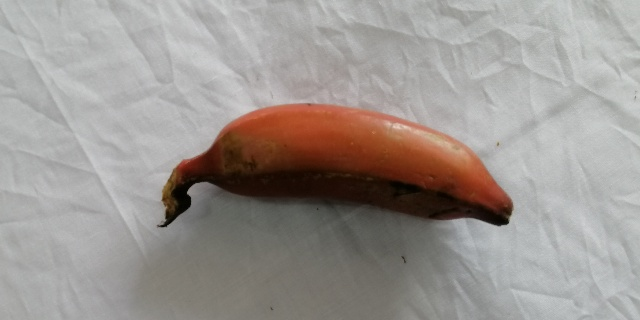banana_red: (159, 106, 512, 227)
